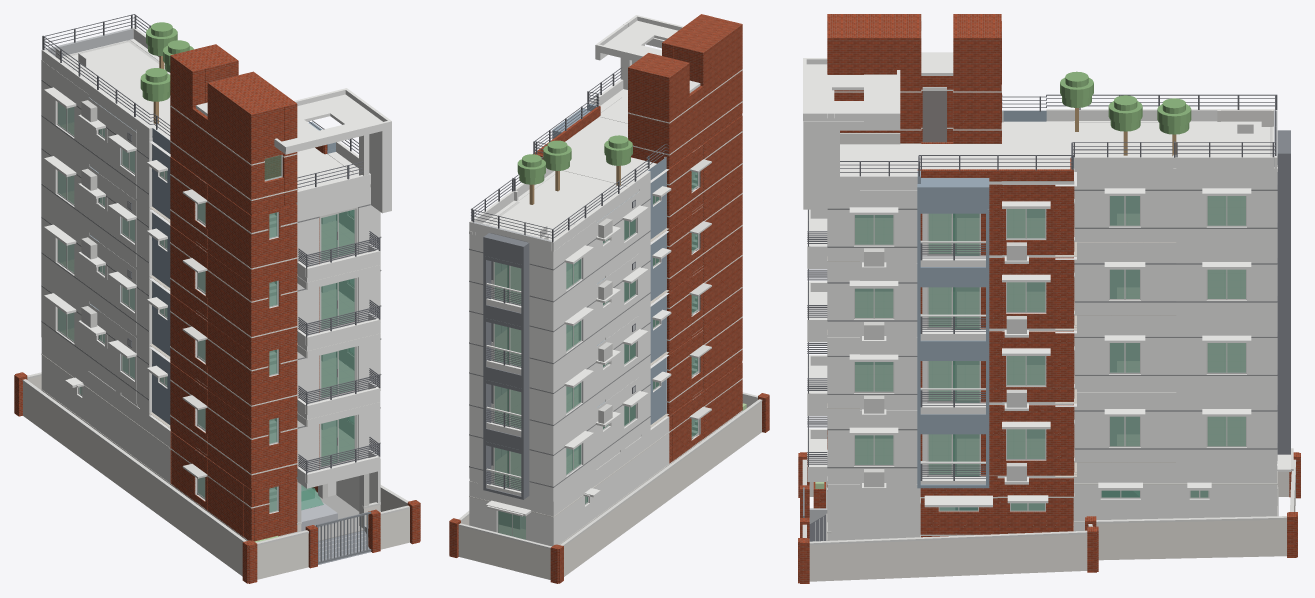
The picture shows the model from 3 angles, left to right: view 1: azimuth 30°, elevation 25°; view 2: azimuth 150°, elevation 25°; view 3: azimuth 270°, elevation 25°; orthographic projection. The views are drawn at different scales.
Visible parts, largest first — view 1: BOUNDARY#2005, pylon_head#1606, GROUND_FLOOR/full_wall#3409, pylon_head#1607, slab#1605, zone#2813, zone#2745, zone#2847, zone#2779, pylon_head#1609, BOUNDARY#1963, zone#0 (+68 smaller); view 2: BOUNDARY#2005, pylon_head#1606, GROUND_FLOOR/full_wall#3409, pylon_head#1607, BOUNDARY#2001, slab#1599, his_balcony_frame/cheek#2537, zone#2813, zone#2779, zone#2847, zone#2745, pylon_head#1613 (+55 smaller); view 3: BOUNDARY#1989, BOUNDARY#1997, pylon_head#1609, pylon_head#1610, GROUND_FLOOR/full_wall#3891, his_balcony_frame/cheek#2538, slab#1596, crown_support#1771, slab#1605, slab#1599, GROUND_FLOOR/room_wall#3330, slab#1592 (+121 smaller).
Boxes of the visible parts, x1,y1,x2,y2 form: BOUNDARY#2005: (23, 382, 242, 576); pylon_head#1606: (207, 79, 264, 213); GROUND_FLOOR/full_wall#3409: (89, 372, 170, 482); pylon_head#1607: (170, 52, 205, 170); slab#1605: (62, 42, 170, 91); zone#2813: (211, 256, 249, 349); zone#2745: (211, 393, 249, 486); zone#2847: (211, 187, 249, 280); zone#2779: (211, 324, 249, 417); pylon_head#1609: (240, 71, 297, 205); BOUNDARY#1963: (257, 533, 308, 579); zone#0: (211, 462, 243, 536); BOUNDARY#2005: (564, 402, 761, 576); pylon_head#1606: (691, 21, 742, 141); GROUND_FLOOR/full_wall#3409: (596, 416, 669, 516); pylon_head#1607: (657, 60, 689, 166); BOUNDARY#2001: (458, 526, 550, 579); slab#1599: (518, 170, 626, 217); his_balcony_frame/cheek#2537: (521, 242, 529, 499); zone#2813: (706, 179, 741, 262); zone#2779: (706, 241, 741, 324); zone#2847: (706, 117, 741, 200); zone#2745: (706, 303, 741, 386); pylon_head#1613: (639, 55, 677, 163); BOUNDARY#1989: (809, 534, 1087, 581); BOUNDARY#1997: (1096, 519, 1286, 560); pylon_head#1609: (827, 31, 921, 143); pylon_head#1610: (953, 31, 1001, 143); GROUND_FLOOR/full_wall#3891: (827, 484, 920, 540); his_balcony_frame/cheek#2538: (1277, 152, 1290, 454); slab#1596: (1002, 122, 1074, 177); crown_support#1771: (803, 121, 839, 209); slab#1605: (1176, 122, 1269, 156); slab#1599: (1074, 122, 1172, 156); GROUND_FLOOR/room_wall#3330: (1221, 466, 1273, 517); slab#1592: (921, 144, 1001, 169).
Bounding box in the file's own units: 8.06 × 20.24 × 18.89.
Materials: 27 (2 with a texture image).
